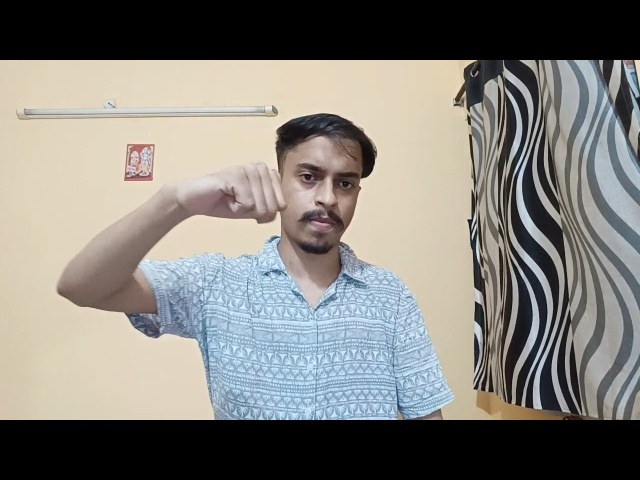Yes: (151, 162, 295, 253)
